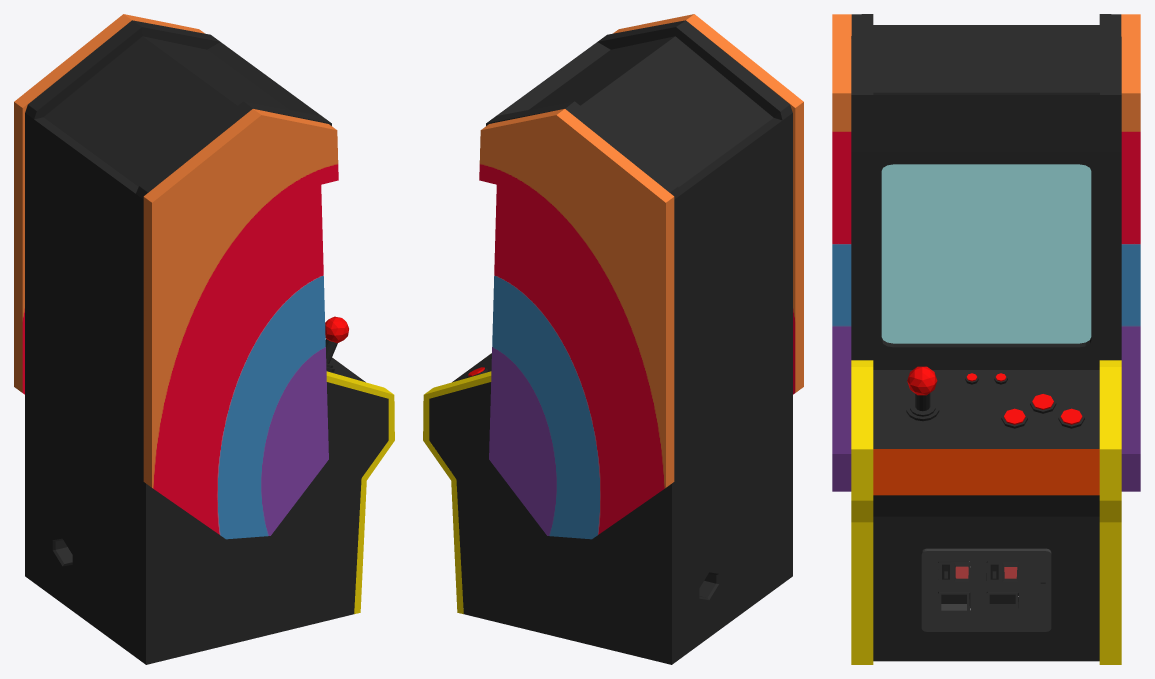
The model's file is ArcadeMachine.gltf.
The picture shows the model from 3 angles, left to right: view 1: azimuth 30°, elevation 25°; view 2: azimuth 150°, elevation 25°; view 3: azimuth 270°, elevation 25°; orthographic projection. The views are drawn at different scales.
Parts seen in each view (by area): view 1: ArcadeMachine; view 2: ArcadeMachine; view 3: ArcadeMachine.
Boxes of the visible parts, <box> form: ArcadeMachine: <box>14,14,394,664</box>; ArcadeMachine: <box>423,14,803,664</box>; ArcadeMachine: <box>832,14,1140,664</box>.
Bounding box in the file's own units: 2.53 × 5.1 × 2.41.
Materials: 8 (1 with a texture image).
